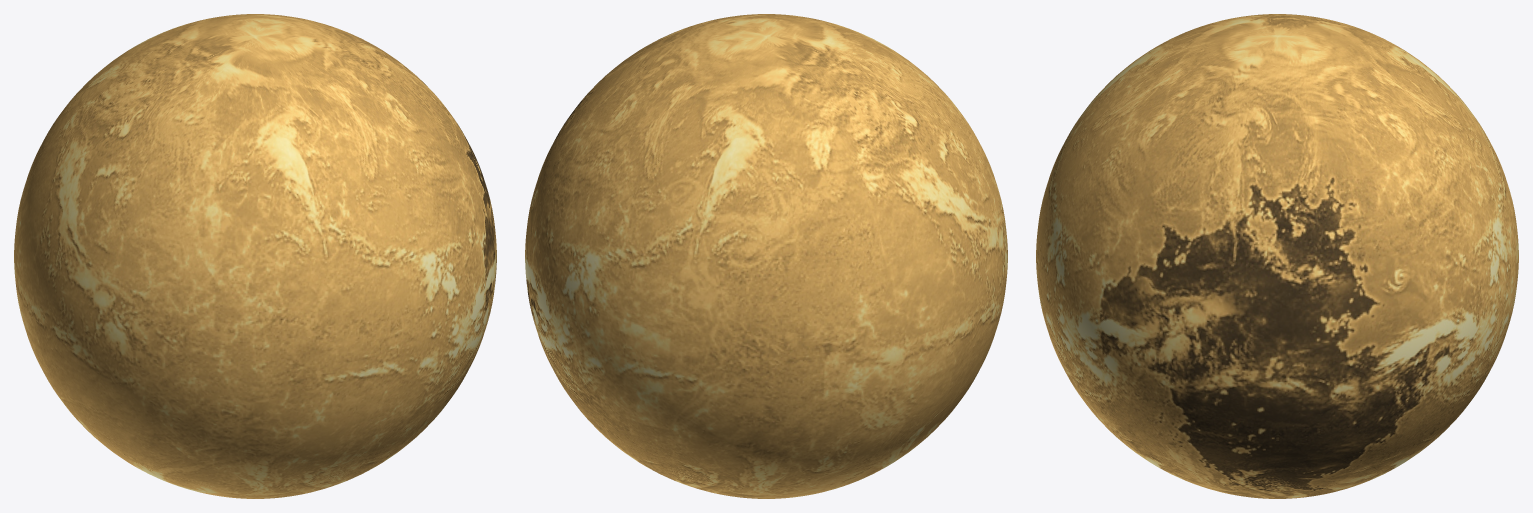
Rendered from proxima-centauri.glb.
3 renders of one model, left to right at view 1: azimuth 30°, elevation 25°; view 2: azimuth 150°, elevation 25°; view 3: azimuth 270°, elevation 25°, orthographic.
Parts seen in each view (by area): view 1: Sphere_0; view 2: Sphere_0; view 3: Sphere_0.
Part boxes in pixels (box(x1,y1,x2,y2)): Sphere_0: box(14, 14, 496, 498); Sphere_0: box(525, 14, 1007, 498); Sphere_0: box(1036, 14, 1518, 498).
Size of the model in its own units: 1.99 by 2 by 1.99.
1 material, 1 textured.
